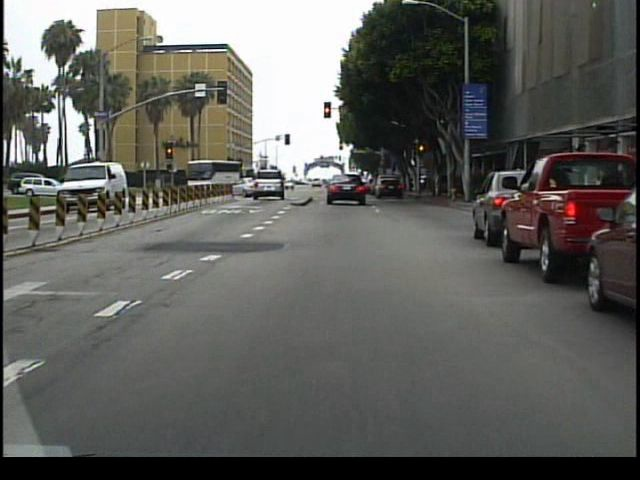person: (80, 174, 93, 209), (75, 173, 88, 204), (69, 170, 70, 201)
